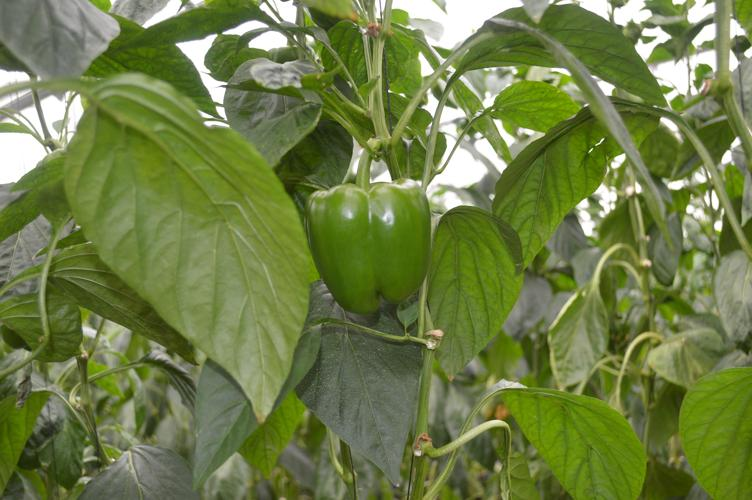BellPepper: (307, 180, 429, 316)
